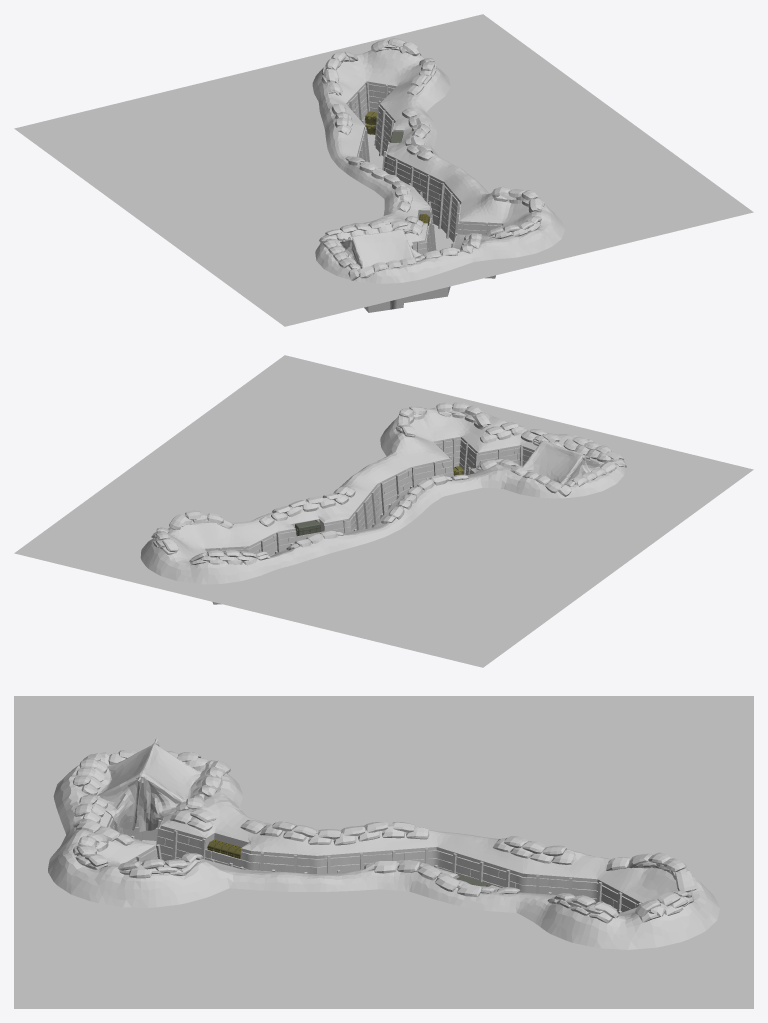
The model's file is Trench_02.fbx.
3 renders of one model, top to bottom at view 1: azimuth 30°, elevation 25°; view 2: azimuth 150°, elevation 25°; view 3: azimuth 270°, elevation 25°, orthographic. The views are drawn at different scales.
Parts seen in each view (by area): view 1: Trench_ground_02, Trench_02, Trench_tent_02; view 2: Trench_ground_02, Trench_02, Trench_tent_02; view 3: Trench_ground_02, Trench_02, Trench_tent_02, Trench_AB_02.
Boxes of the visible parts, <box> form: Trench_ground_02: <box>14,14,753,326</box>; Trench_02: <box>312,38,564,312</box>; Trench_tent_02: <box>339,228,421,268</box>; Trench_ground_02: <box>14,355,753,667</box>; Trench_02: <box>140,402,626,604</box>; Trench_tent_02: <box>519,438,604,484</box>; Trench_ground_02: <box>14,696,753,1008</box>; Trench_02: <box>48,750,719,949</box>; Trench_tent_02: <box>96,739,201,831</box>; Trench_AB_02: <box>207,839,487,886</box>.
Bounding box in the file's own units: 591 × 84.49 × 591.
